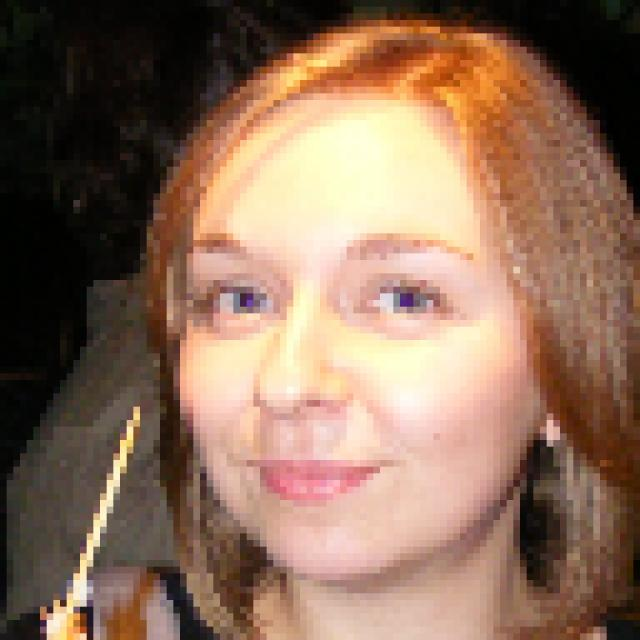happy: (170, 103, 553, 584)
